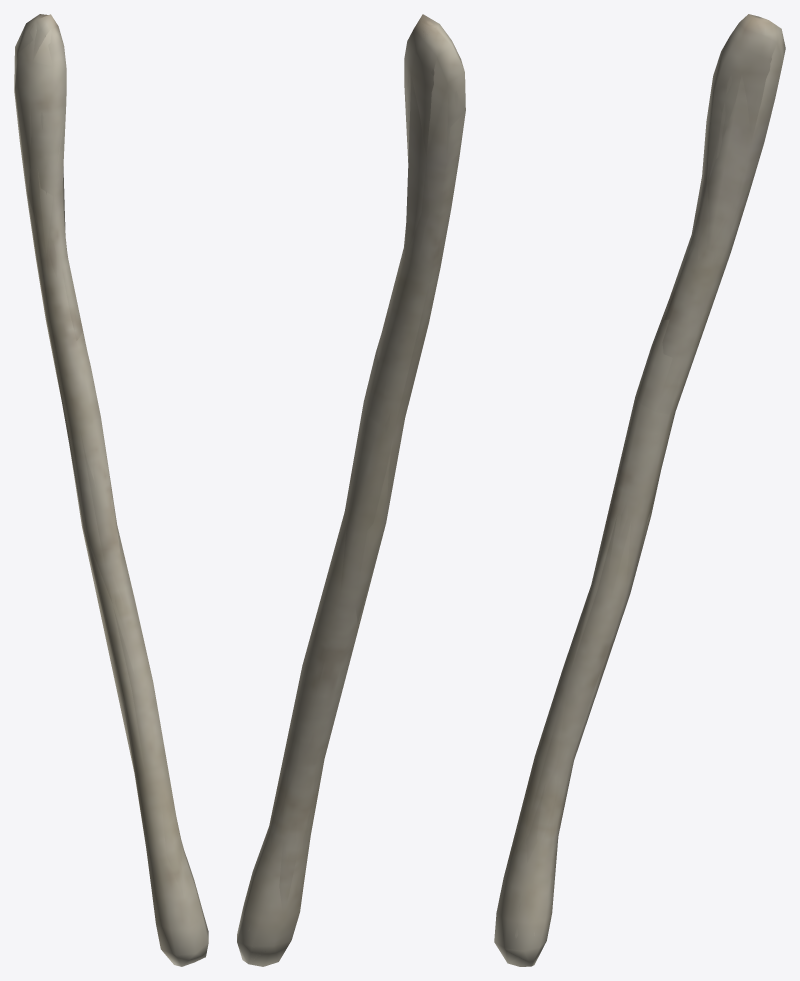
Rendered from L metatarsi quintum.fbx.
3 views of the same model, side by side, from view 1: azimuth 30°, elevation 25°; view 2: azimuth 210°, elevation 25°; view 3: azimuth 270°, elevation 25° (orthographic). The views are drawn at different scales.
Visible parts, largest first — view 1: L metatarsi quintum, L metatarsi quintum low, L metatarsi quintum high; view 2: L metatarsi quintum low, L metatarsi quintum, L metatarsi quintum high; view 3: L metatarsi quintum, L metatarsi quintum low, L metatarsi quintum high.
Boxes of the visible parts, left/top/right/bottom form: L metatarsi quintum: left=14, top=14, right=208, bottom=966; L metatarsi quintum low: left=14, top=20, right=191, bottom=965; L metatarsi quintum high: left=15, top=16, right=205, bottom=926; L metatarsi quintum low: left=249, top=15, right=465, bottom=963; L metatarsi quintum: left=237, top=14, right=465, bottom=966; L metatarsi quintum high: left=240, top=21, right=458, bottom=930; L metatarsi quintum: left=494, top=14, right=785, bottom=966; L metatarsi quintum low: left=504, top=14, right=785, bottom=962; L metatarsi quintum high: left=513, top=17, right=771, bottom=938.
Size of the model in its own units: 0.5868 by 5.77 by 1.63.
1 material, 1 textured.
